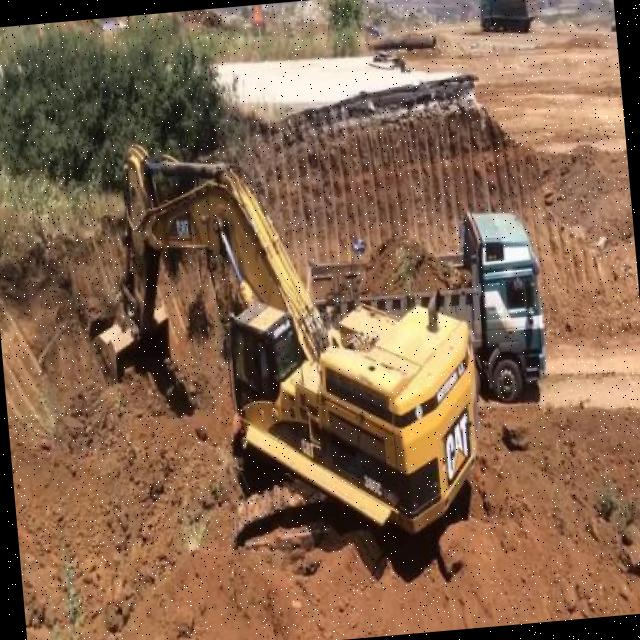Dump Truck: (310, 203, 550, 416), (476, 0, 538, 38)
Excavator: (76, 112, 484, 558)
